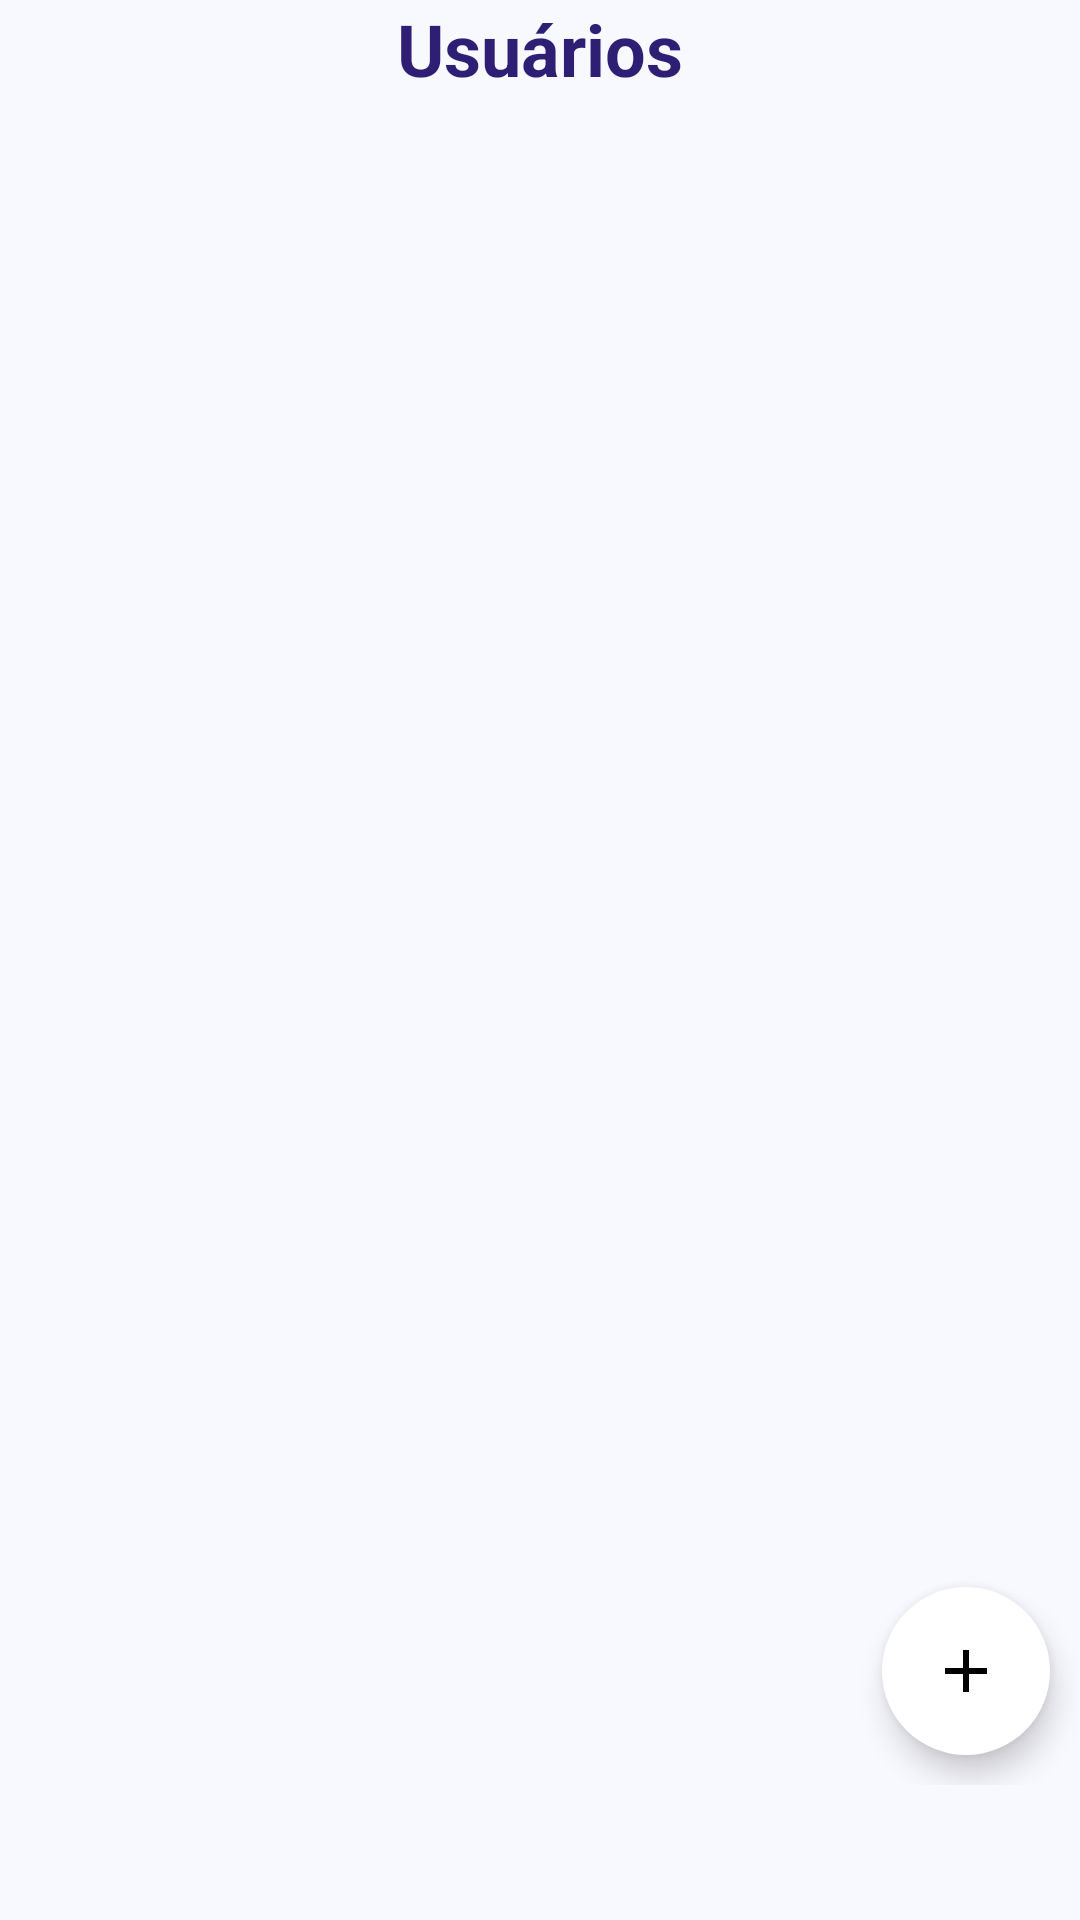

Icons on this 1080x1920 Android screen, each with the point to tap as (x=x, y=y):
add: (x=966, y=1671)
